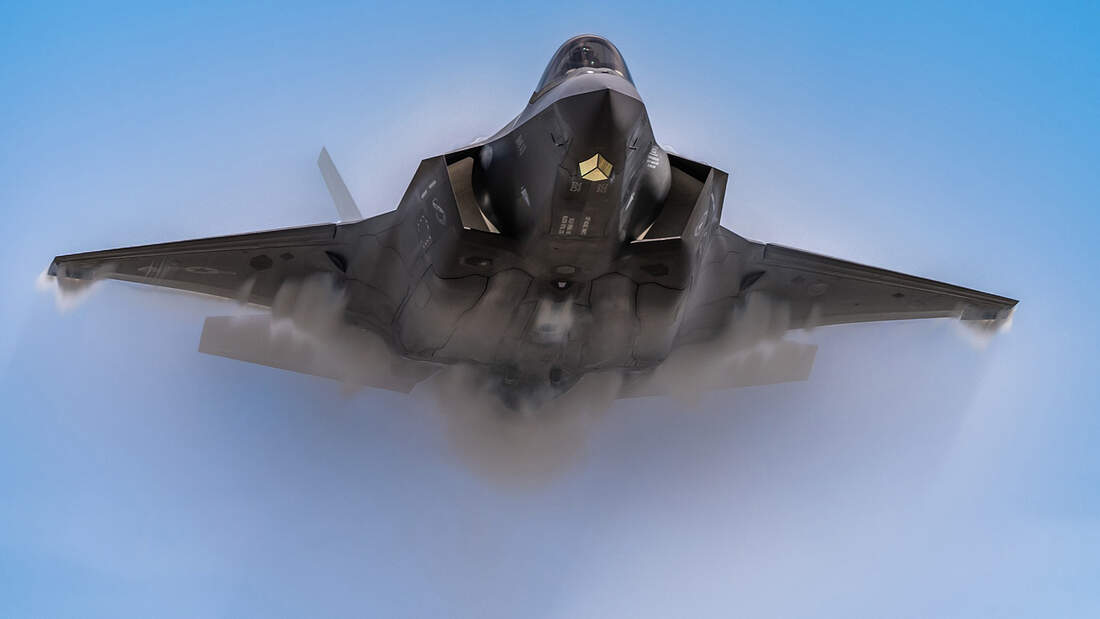F35: (31, 25, 1027, 509)
